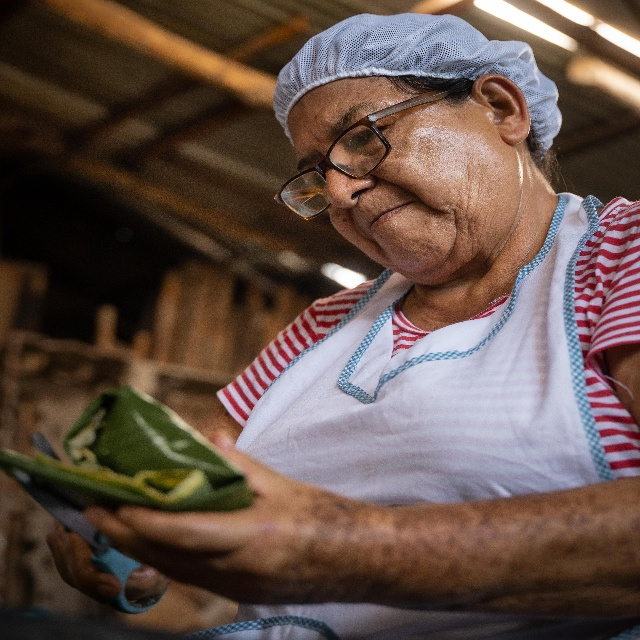Gafas: (273, 87, 450, 222)
Sin_guantes: (87, 429, 351, 606), (45, 517, 171, 605)
